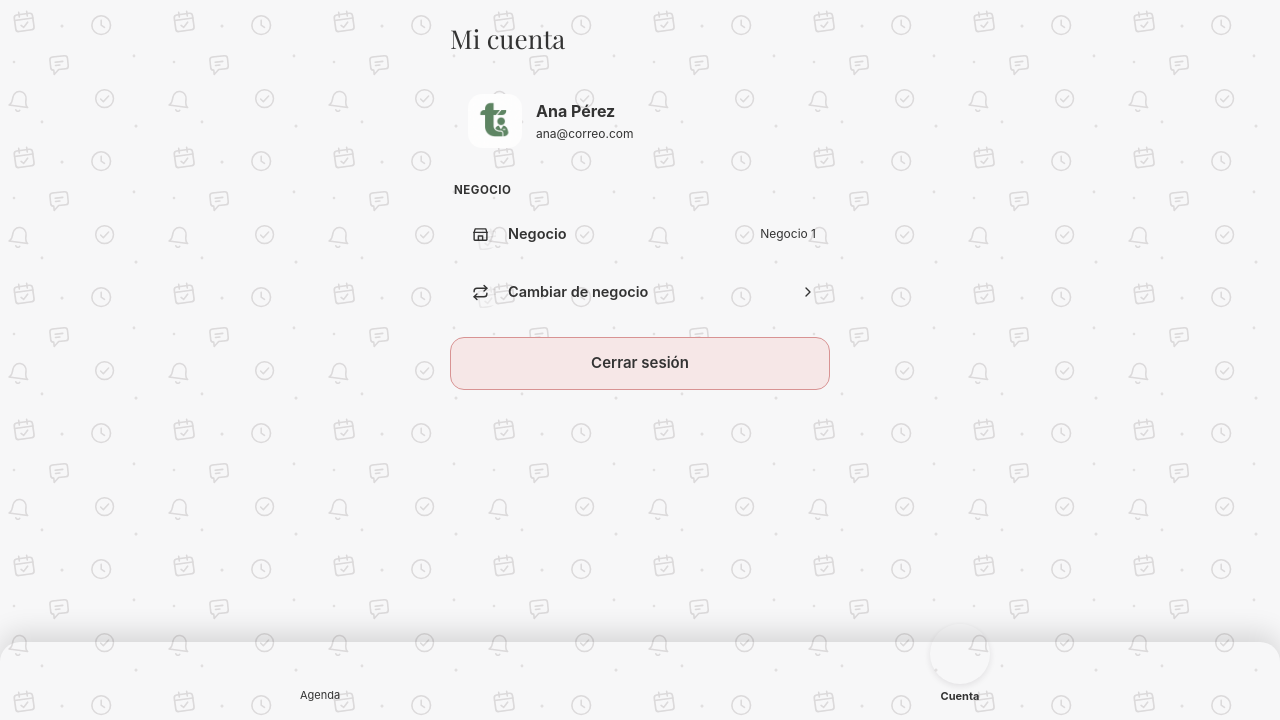
Test: CuentaPro › con más de un negocio ofrece cambiar y elegir otro lo activa
Click the button "Cambiar de negocio". click: (640, 292)
box: [450, 263, 830, 321]
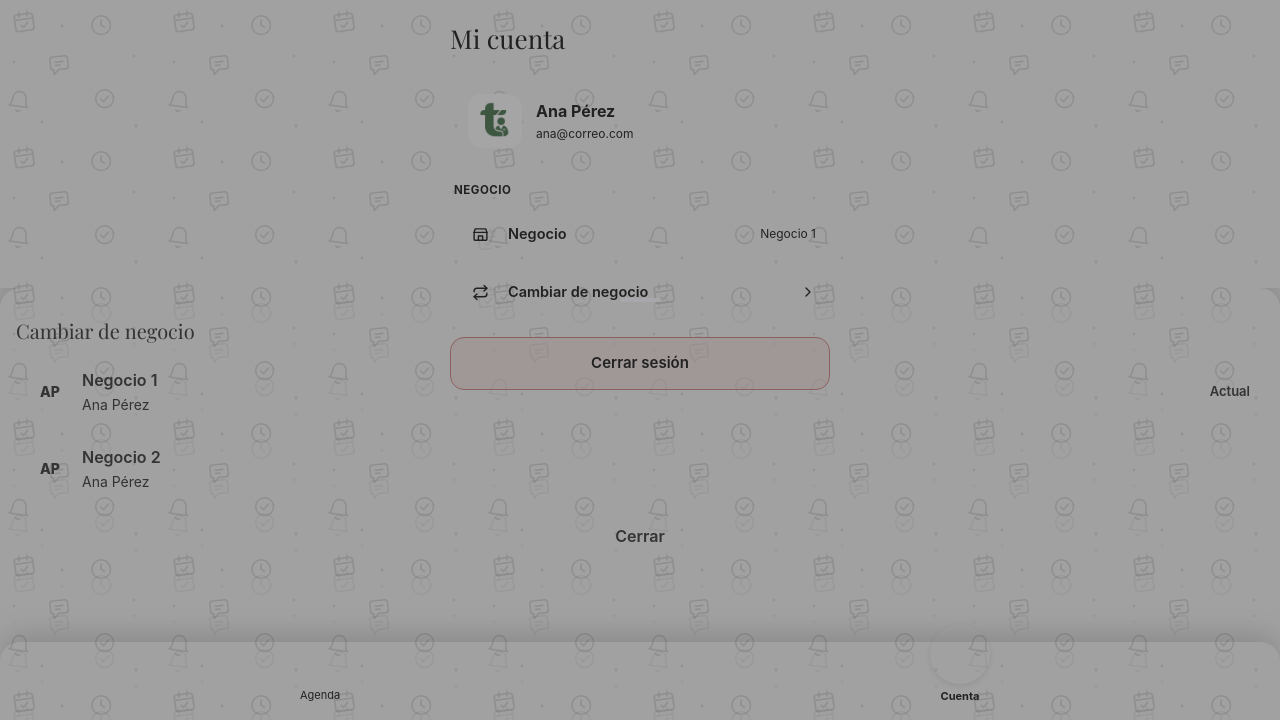
Click the button "AP Negocio 2 Ana Pérez". click: (121, 457)
box: [16, 435, 1264, 502]
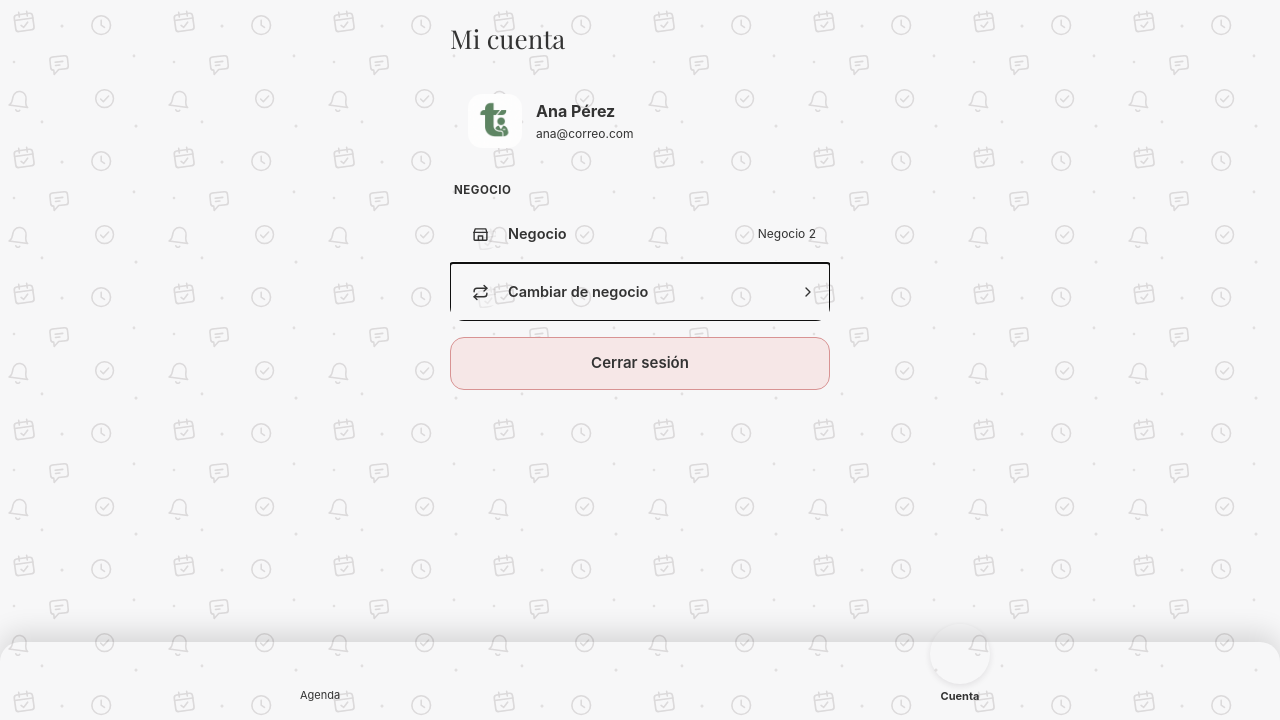
expect the text "Negocio 2" is shown: met, box [758, 226, 816, 241]
